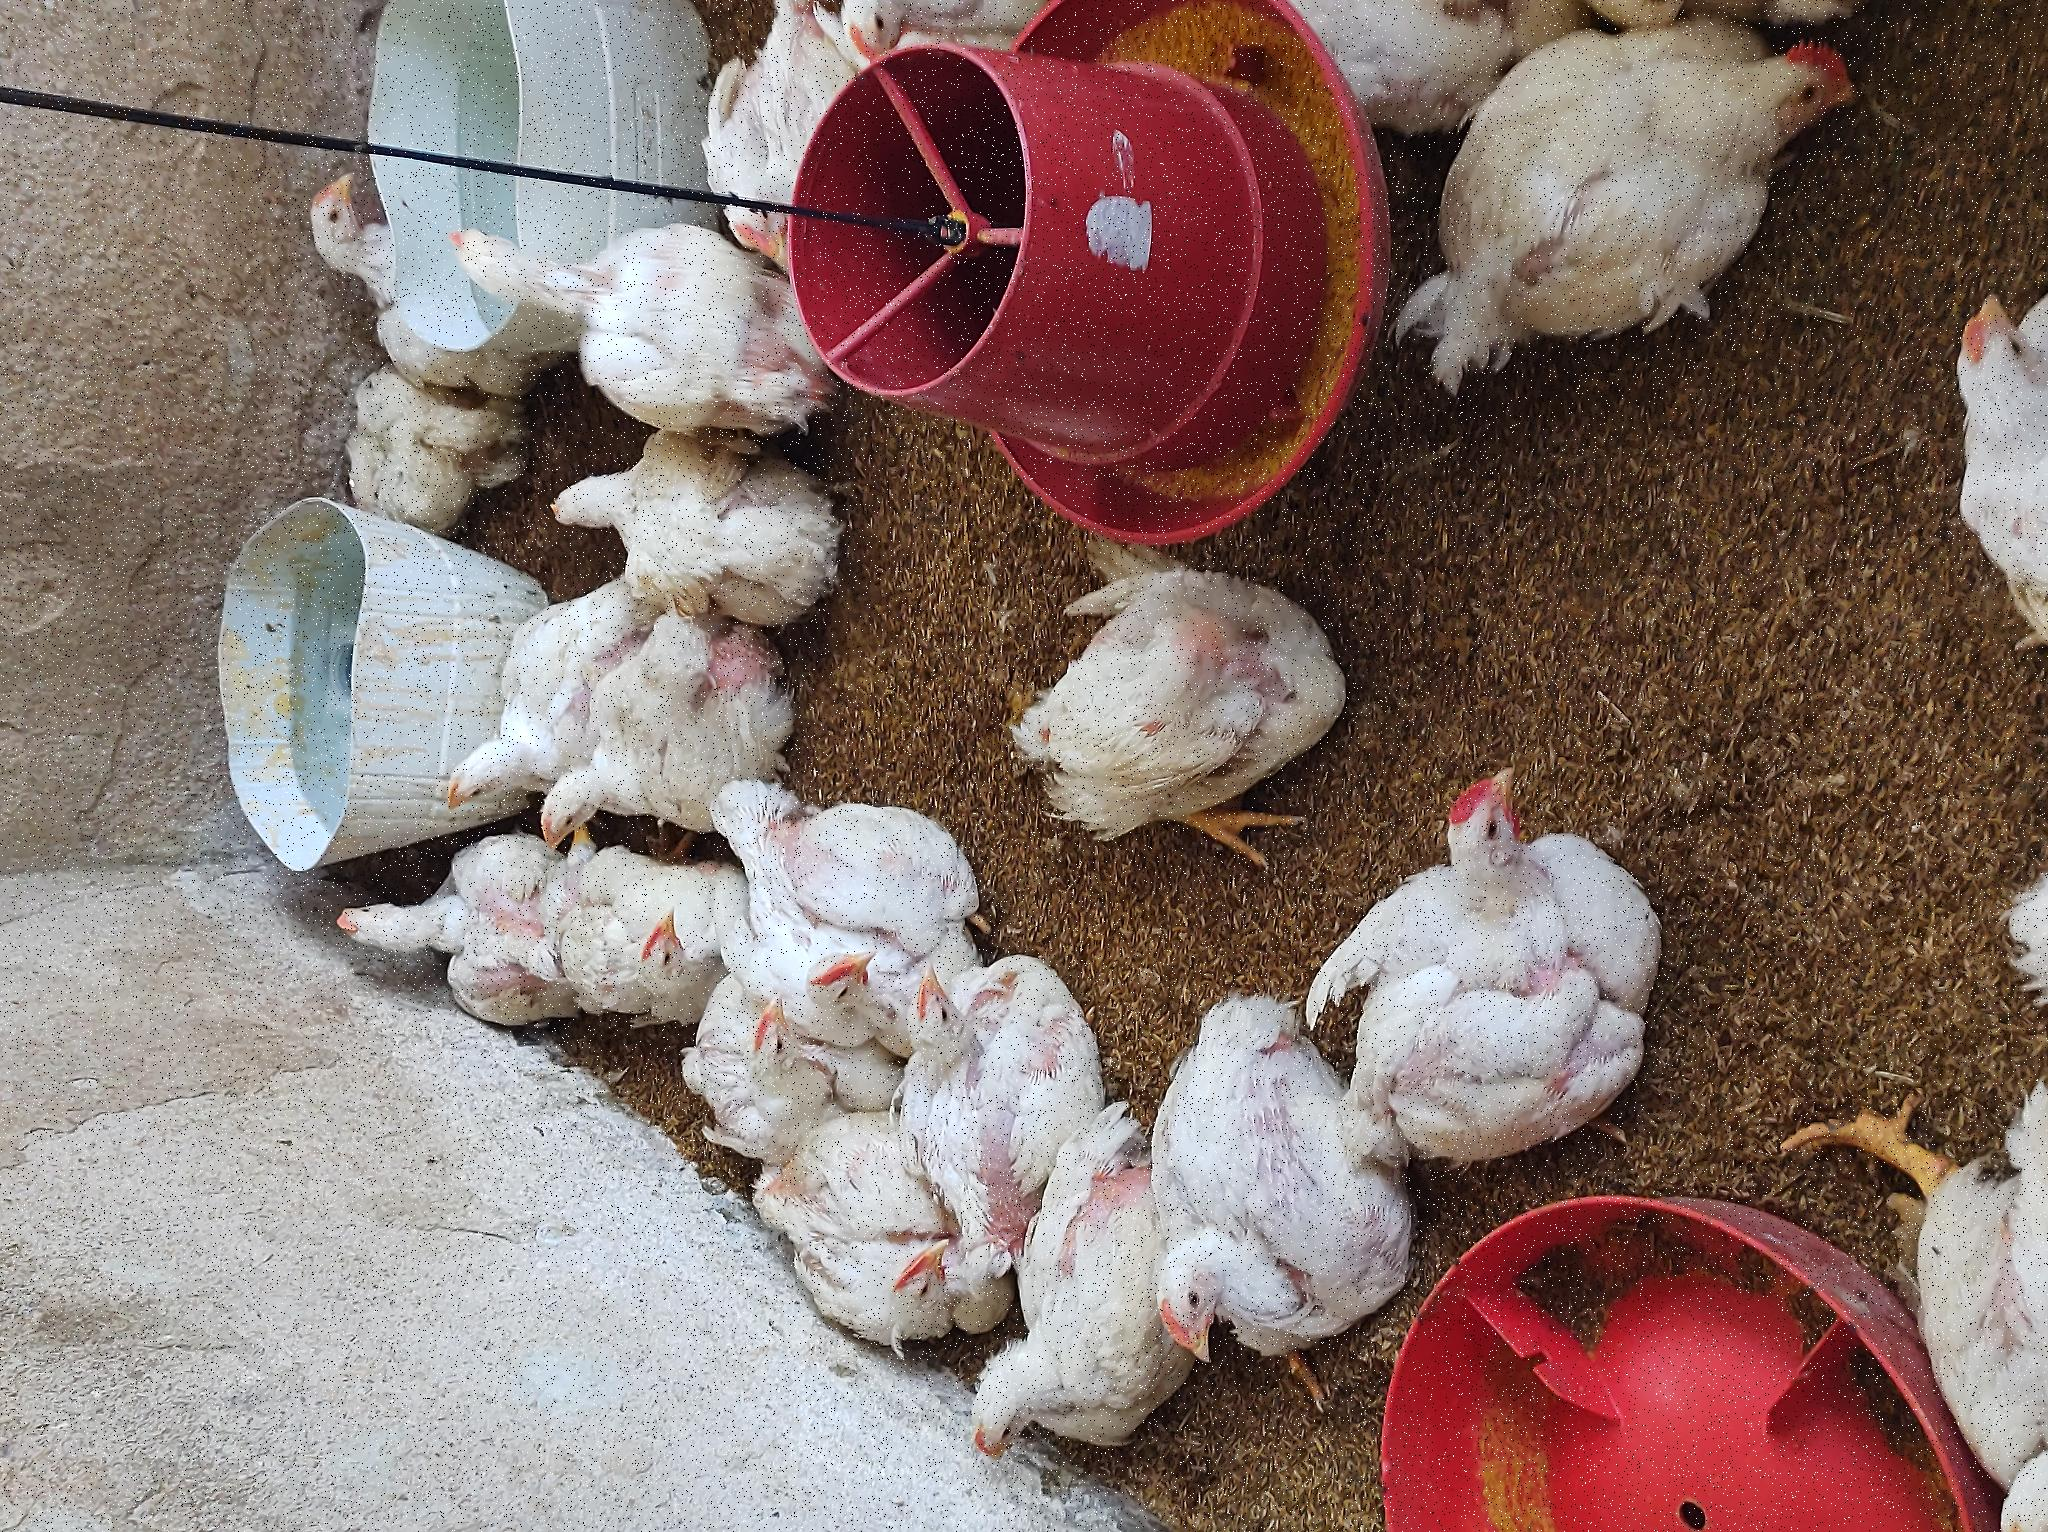Pollos: (171, 1143, 587, 1419), (158, 706, 534, 1006), (397, 1278, 793, 1532), (692, 1003, 978, 1334), (58, 925, 367, 1200), (1104, 436, 1334, 805), (259, 872, 605, 1078), (890, 558, 1099, 867), (664, 536, 911, 784), (492, 724, 705, 998), (1128, 1392, 1533, 1532), (732, 401, 951, 620), (507, 280, 682, 496), (983, 323, 1194, 476), (1216, 275, 1374, 467), (479, 629, 632, 747), (1445, 814, 1533, 975)
